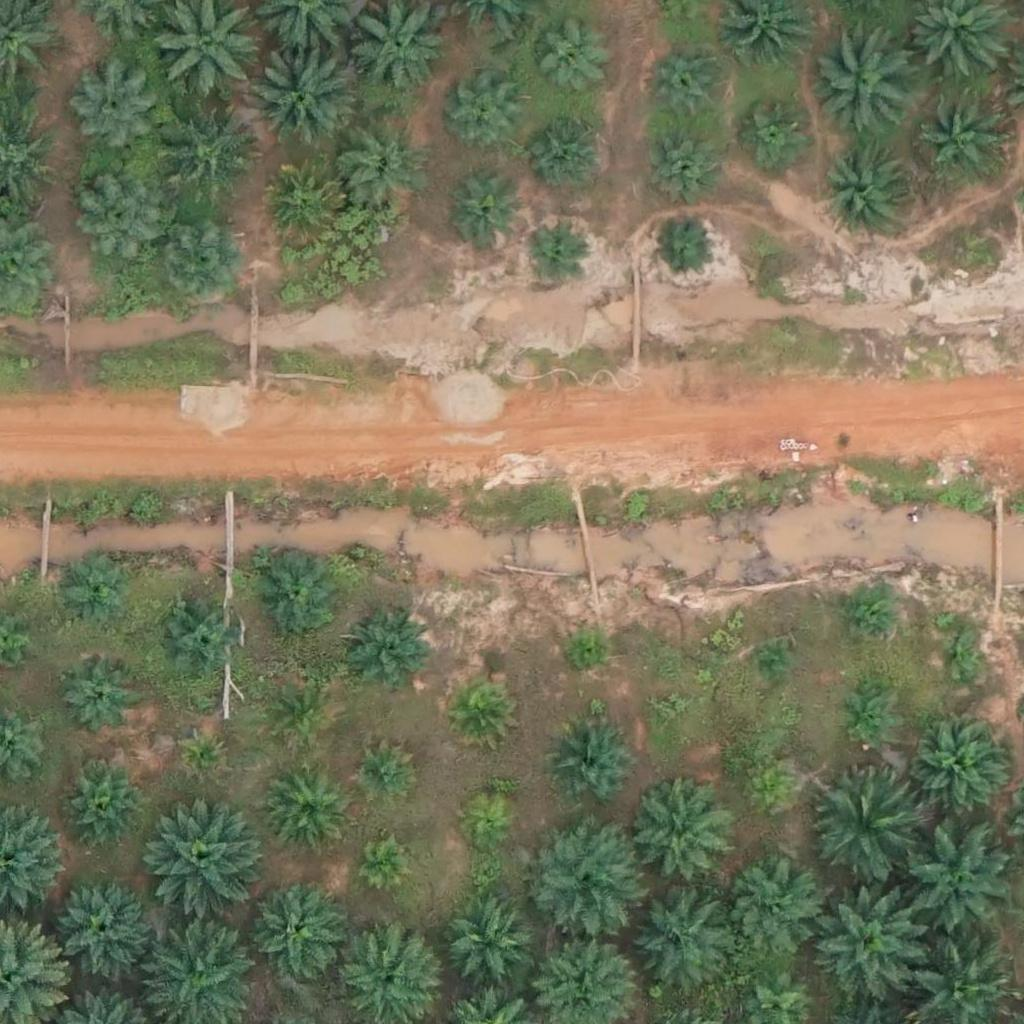Kelapa_Sawit: (147, 797, 260, 911), (897, 825, 1010, 938), (806, 765, 919, 878), (811, 897, 924, 1010), (248, 40, 361, 153), (527, 820, 639, 934), (634, 788, 734, 889), (55, 878, 155, 979), (155, 102, 255, 203), (913, 717, 1013, 817), (728, 858, 828, 958), (635, 895, 735, 995), (247, 880, 347, 980), (814, 31, 914, 131), (547, 717, 635, 805), (445, 898, 533, 986), (153, 594, 241, 682), (59, 761, 147, 849), (636, 122, 724, 210), (255, 160, 343, 248), (67, 66, 155, 154), (78, 173, 165, 262), (254, 550, 341, 638), (263, 765, 350, 853), (921, 97, 1008, 185), (823, 146, 910, 234), (646, 41, 733, 129), (340, 127, 427, 215), (156, 219, 243, 307), (350, 618, 425, 694), (59, 660, 134, 736), (529, 24, 604, 100), (531, 112, 606, 188), (737, 94, 812, 169), (449, 79, 524, 154), (447, 179, 522, 254), (61, 557, 124, 620), (450, 678, 513, 741), (520, 220, 583, 283), (653, 216, 715, 279), (273, 684, 335, 747), (460, 797, 510, 848), (935, 633, 985, 683), (843, 587, 893, 637), (838, 690, 888, 740), (362, 840, 412, 890), (357, 748, 407, 798), (752, 648, 790, 686), (566, 632, 603, 670), (742, 767, 779, 804), (181, 733, 218, 770), (655, 695, 680, 721)
